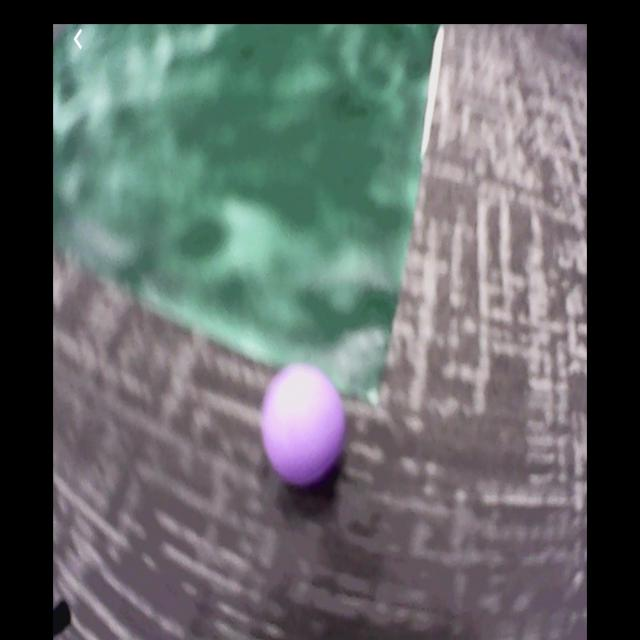ball: (264, 363, 344, 483)
